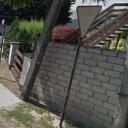preferencia: (73, 4, 104, 40)
